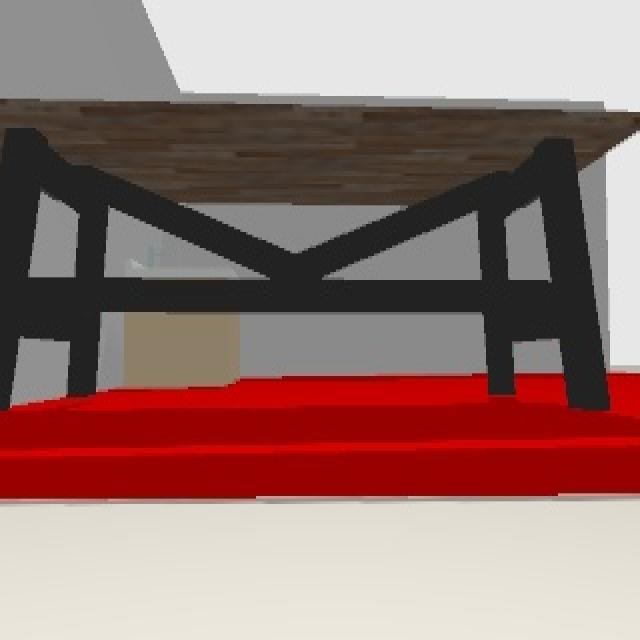dining: (2, 94, 640, 414)
